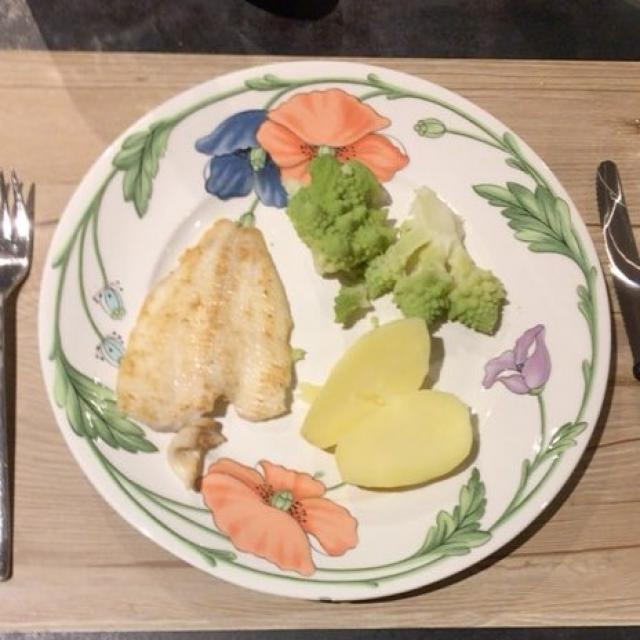fish: (117, 206, 293, 429)
potatoes: (298, 312, 493, 483)
romanesco: (306, 158, 504, 328)
